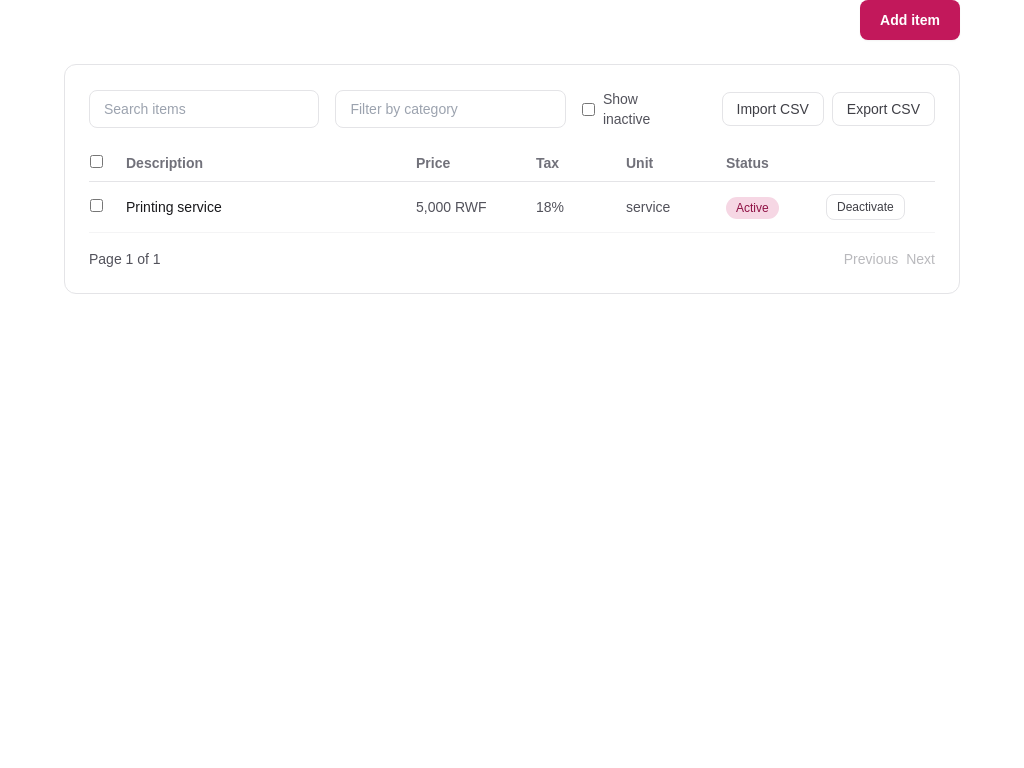
Test: Items › deactivates an item after confirming
This screenshot has width=1024, height=768.
Check: the text "Printing service" is shown, box 126,197 -> 222,217
Click the button "Deactivate". click: (865,207)
box: 826,194 -> 905,220
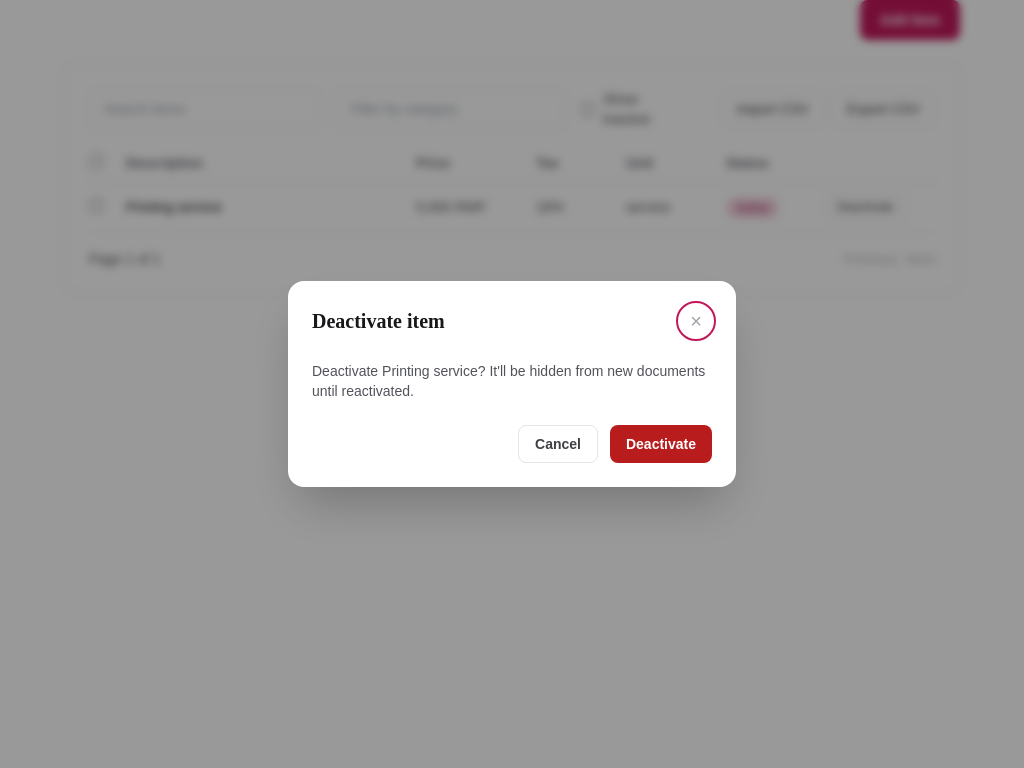
Click the button "Deactivate". click: (661,444)
box: 610,425 -> 712,463
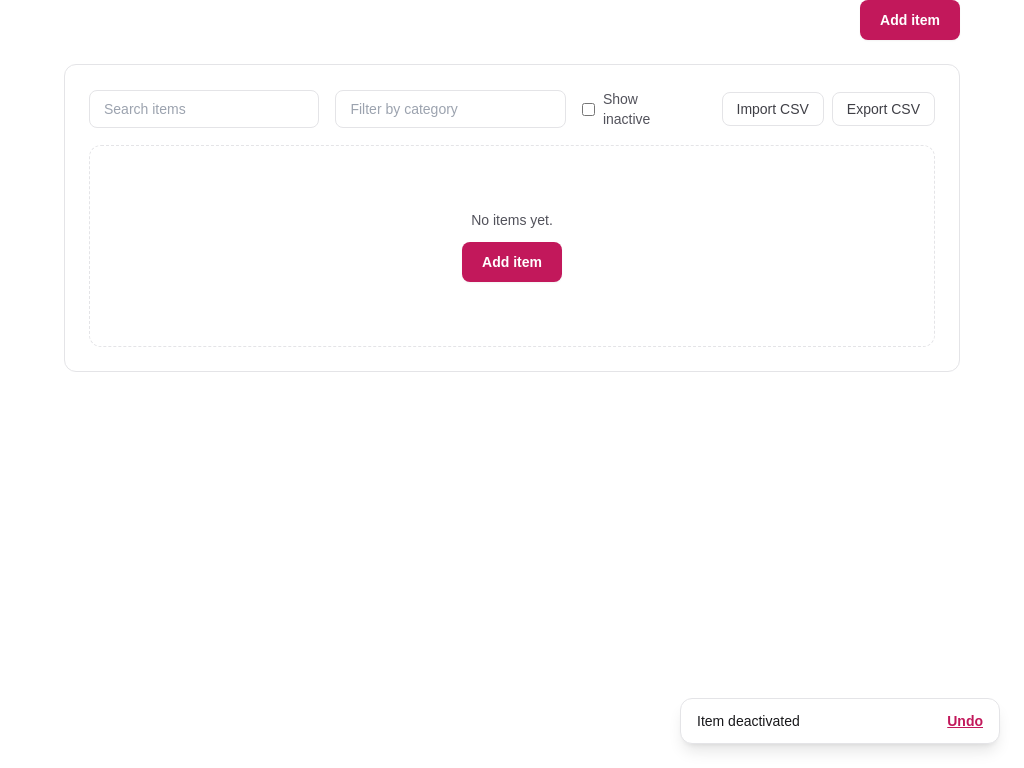
Check: the text "No items yet." is shown, box 471,210 -> 553,230
Check: the text "Item deactivated" is shown, box 697,713 -> 800,729
